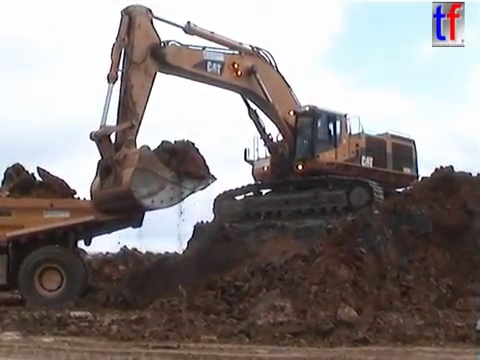excavator: (86, 2, 425, 231)
truck: (1, 187, 151, 316)
